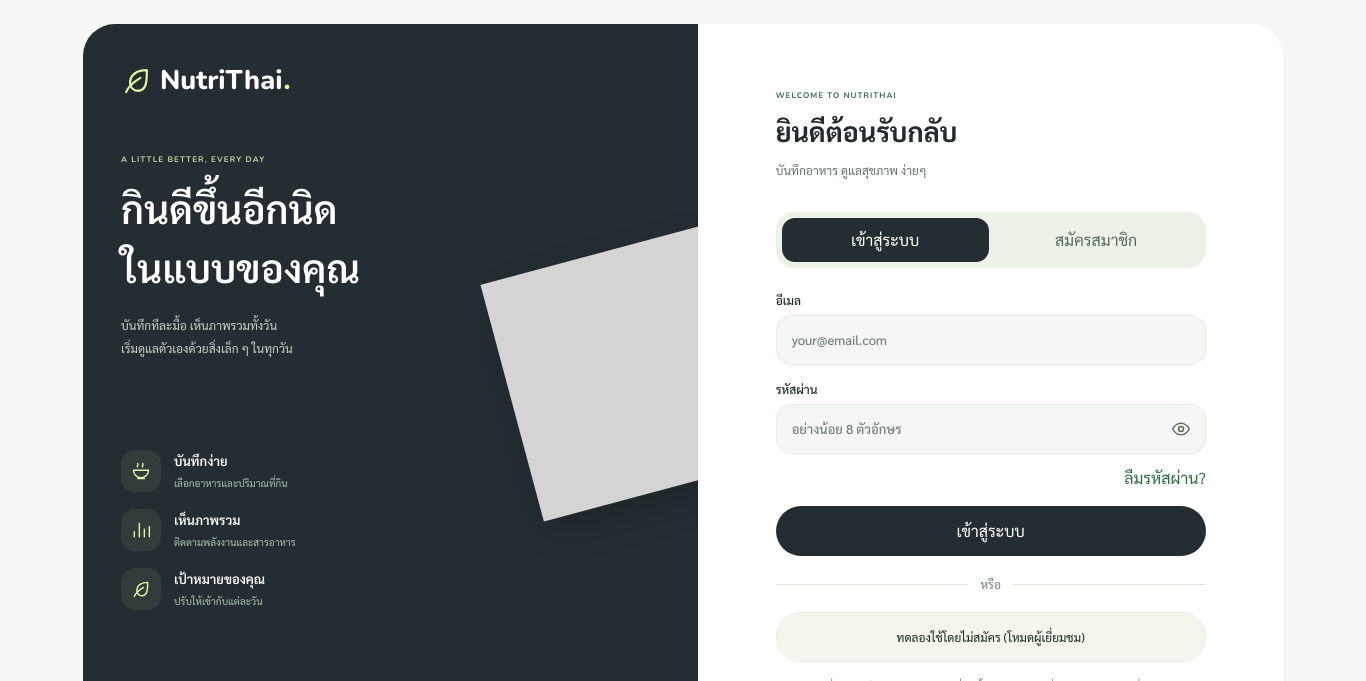
Test: password recovery › shows signup confirmation when email verification is required
This screenshot has width=1366, height=681.
Click the tab "สมัครสมาชิก" at (1096, 240), box [993, 218, 1200, 262]
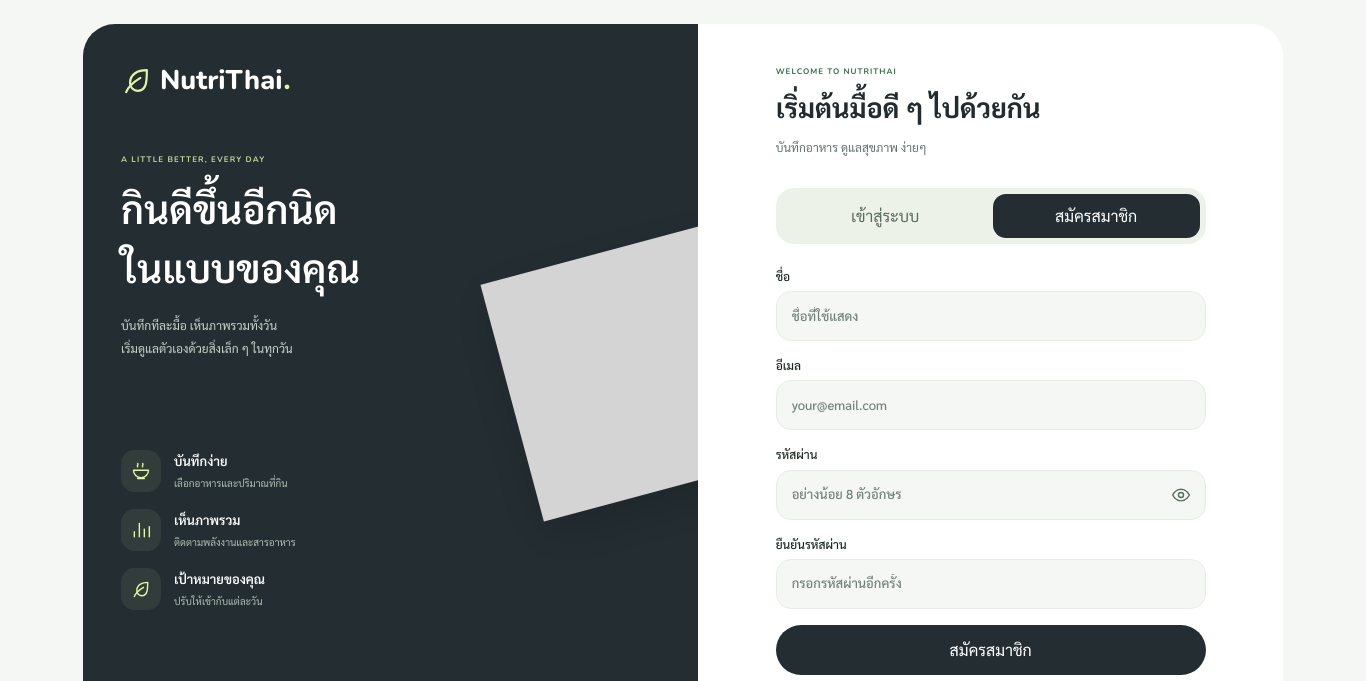
Type "new-user" into the field labelled "ชื่อ" at (991, 316), box [776, 291, 1206, 341]
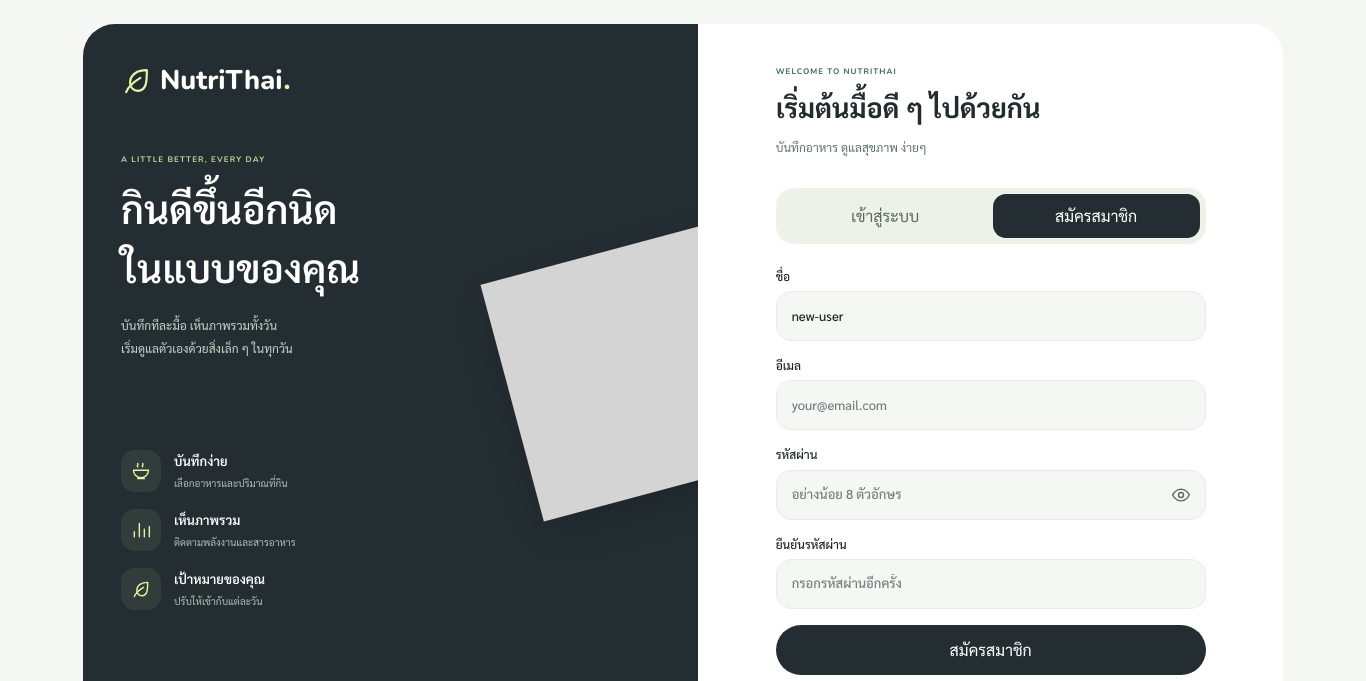
Type "new@example.com" into the field named "email" at (991, 405), box [776, 380, 1206, 430]
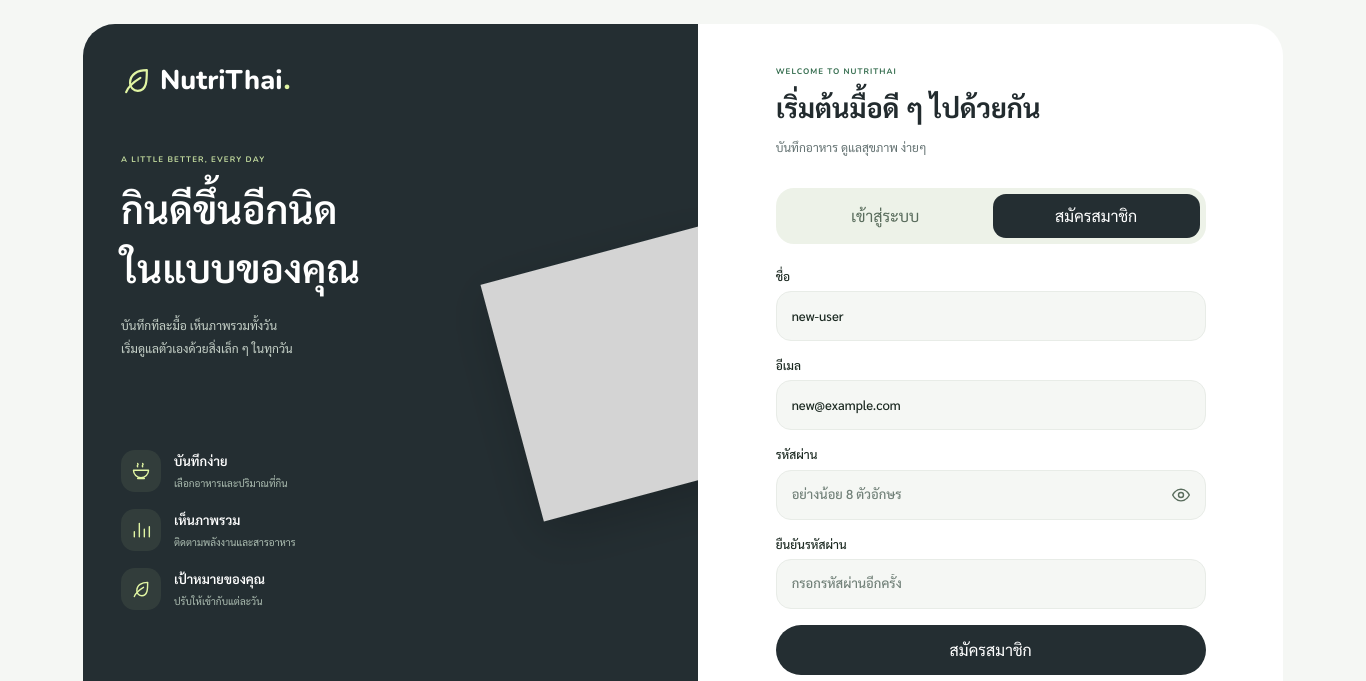
Type "password-one" into the password field with id "auth-password" at (991, 494), box [776, 470, 1206, 520]
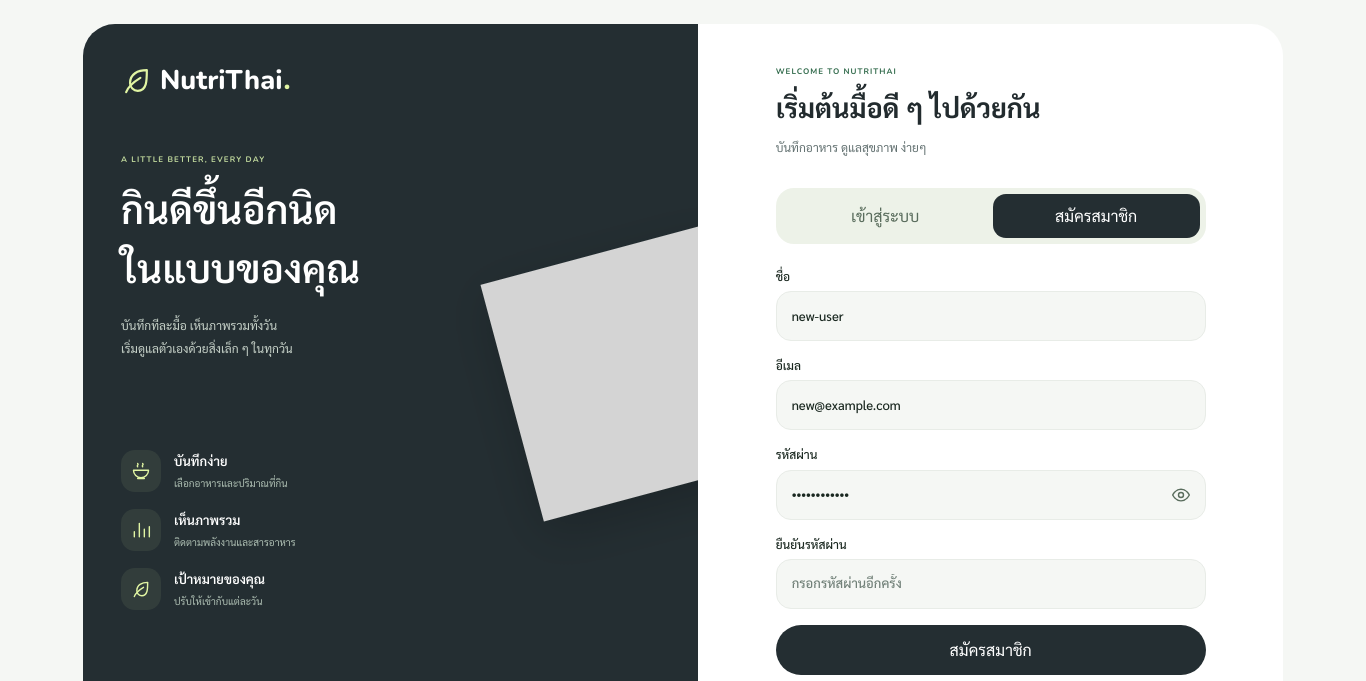
Type "password-one" into the password field labelled "ยืนยันรหัสผ่าน" at (991, 584), box [776, 559, 1206, 609]
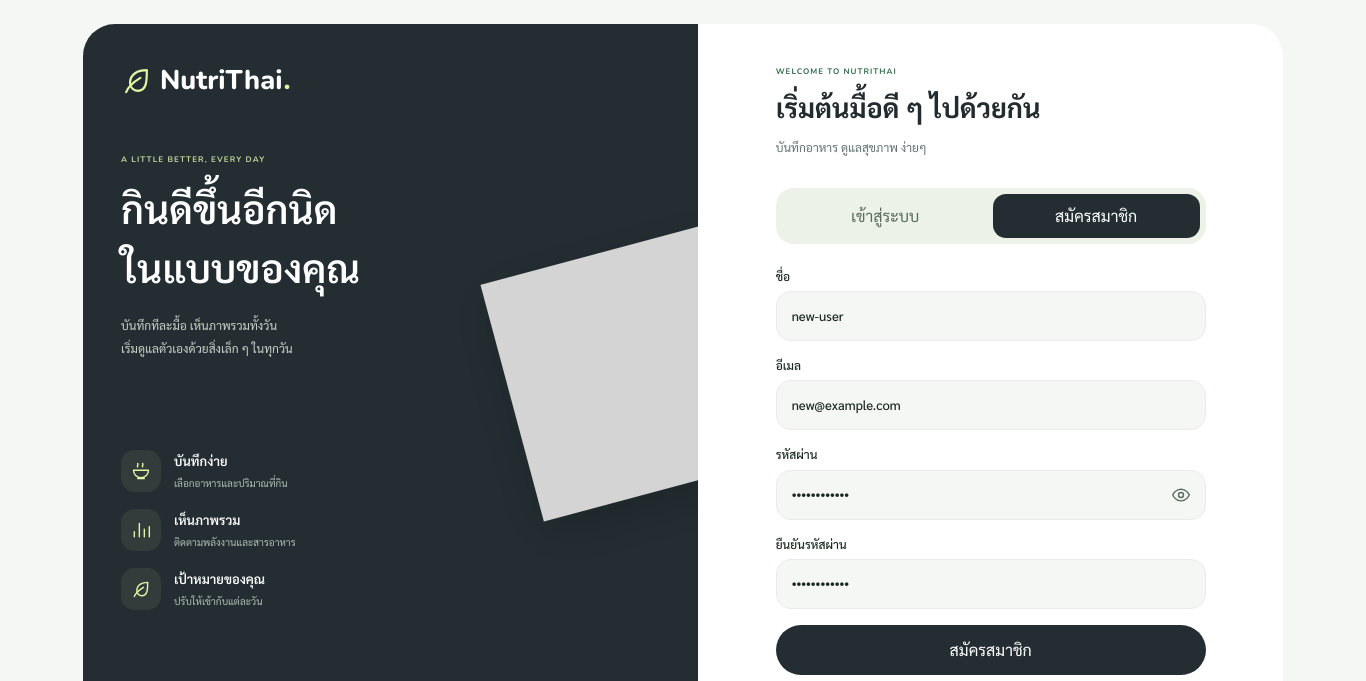
Click the button "สมัครสมาชิก" at (991, 650), box [776, 625, 1206, 675]
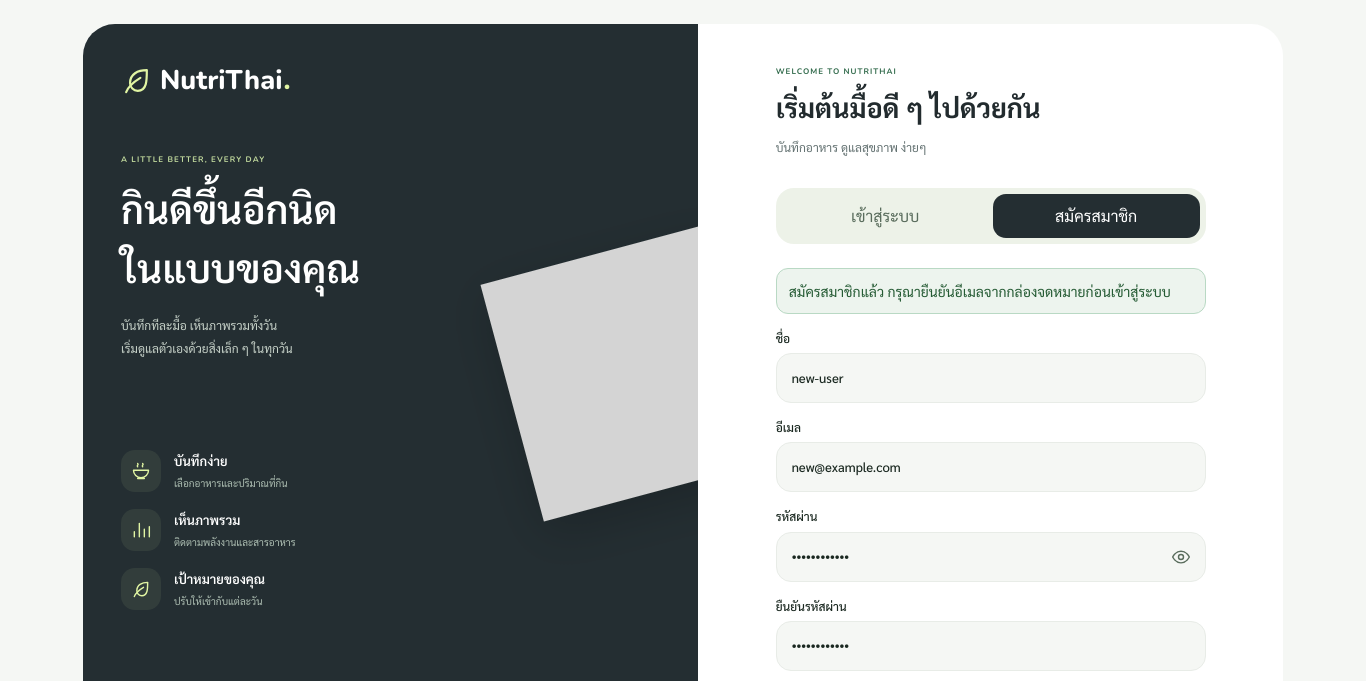
expect the message "สมัครสมาชิกแล้ว กรุณายืนยันอีเมลจากกล่องจดหมายก่อนเข้าสู่ระบบ" is shown: met, box [776, 268, 1206, 314]
